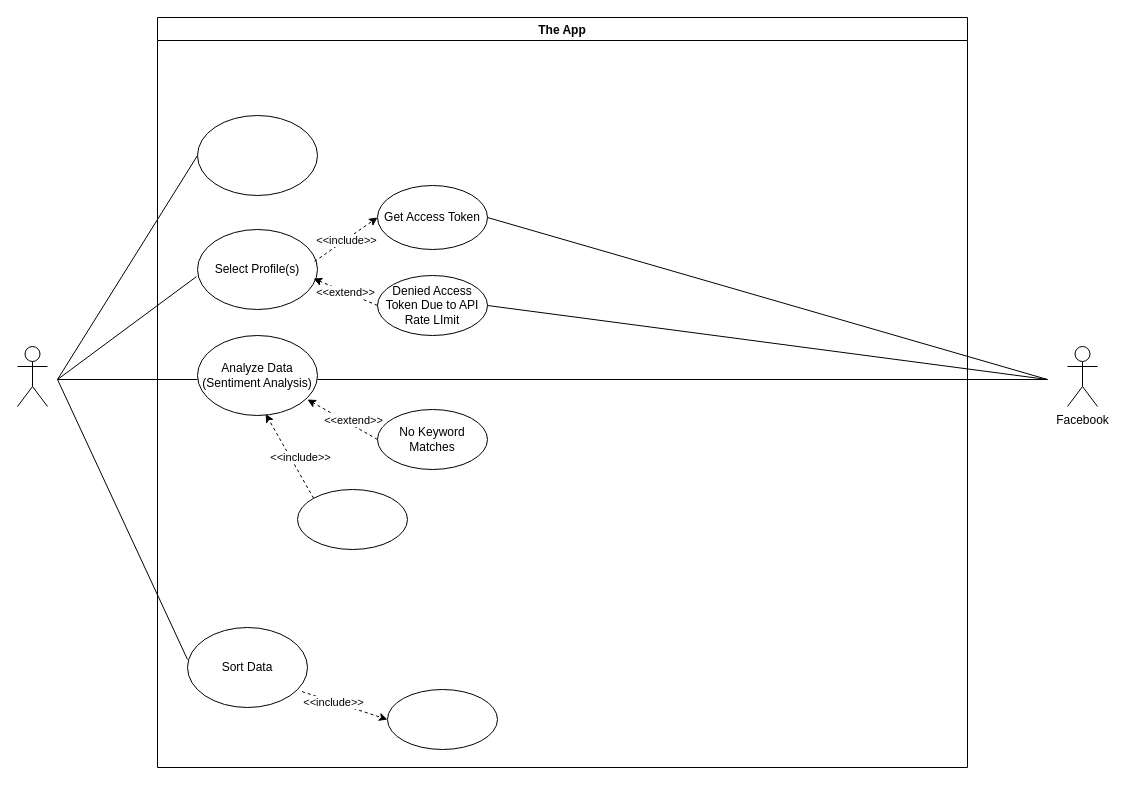
Some shapes in this 1126 by 785 pixel diagram are drawn without their labels. Each missing label, with the centre of its shape:
"Choose Sort Category" belongs at pixel 442 719.
"Select Keyword(s)" belongs at pixel 257 155.
"Text/Data Extraction" belongs at pixel 352 519.
"User" belongs at pixel 32 376.
